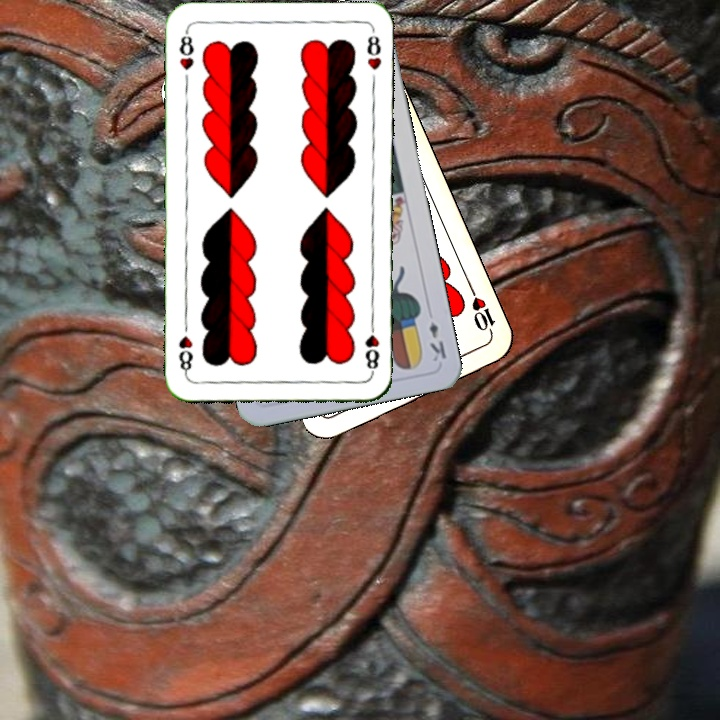EK: (425, 317, 449, 364)
H10: (465, 283, 498, 339)
H8: (360, 317, 382, 376), (175, 27, 197, 73)
